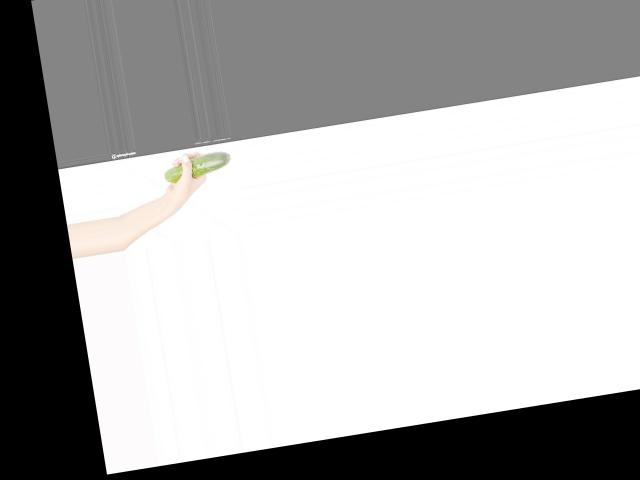cucumber: (162, 149, 233, 183)
